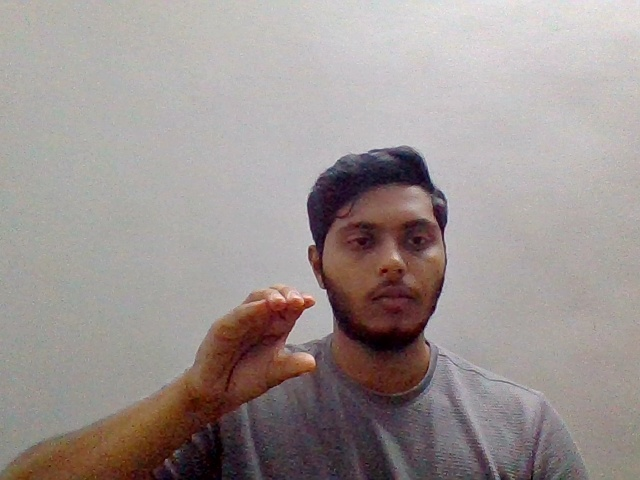No: (177, 276, 324, 428)
